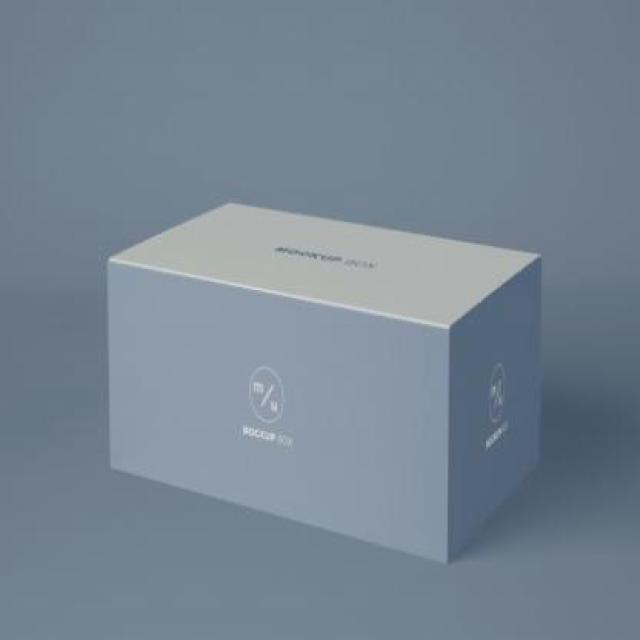box: (100, 190, 569, 574)
